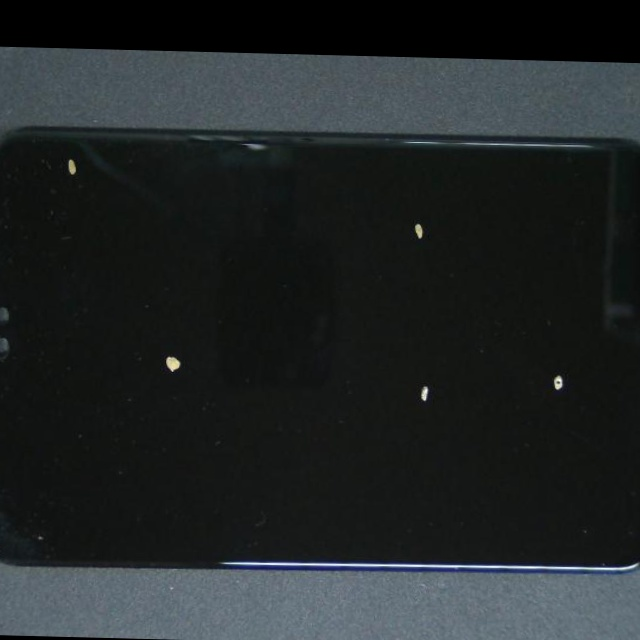stain: (172, 273, 640, 613), (259, 237, 640, 542), (198, 143, 640, 300), (70, 181, 295, 481)
